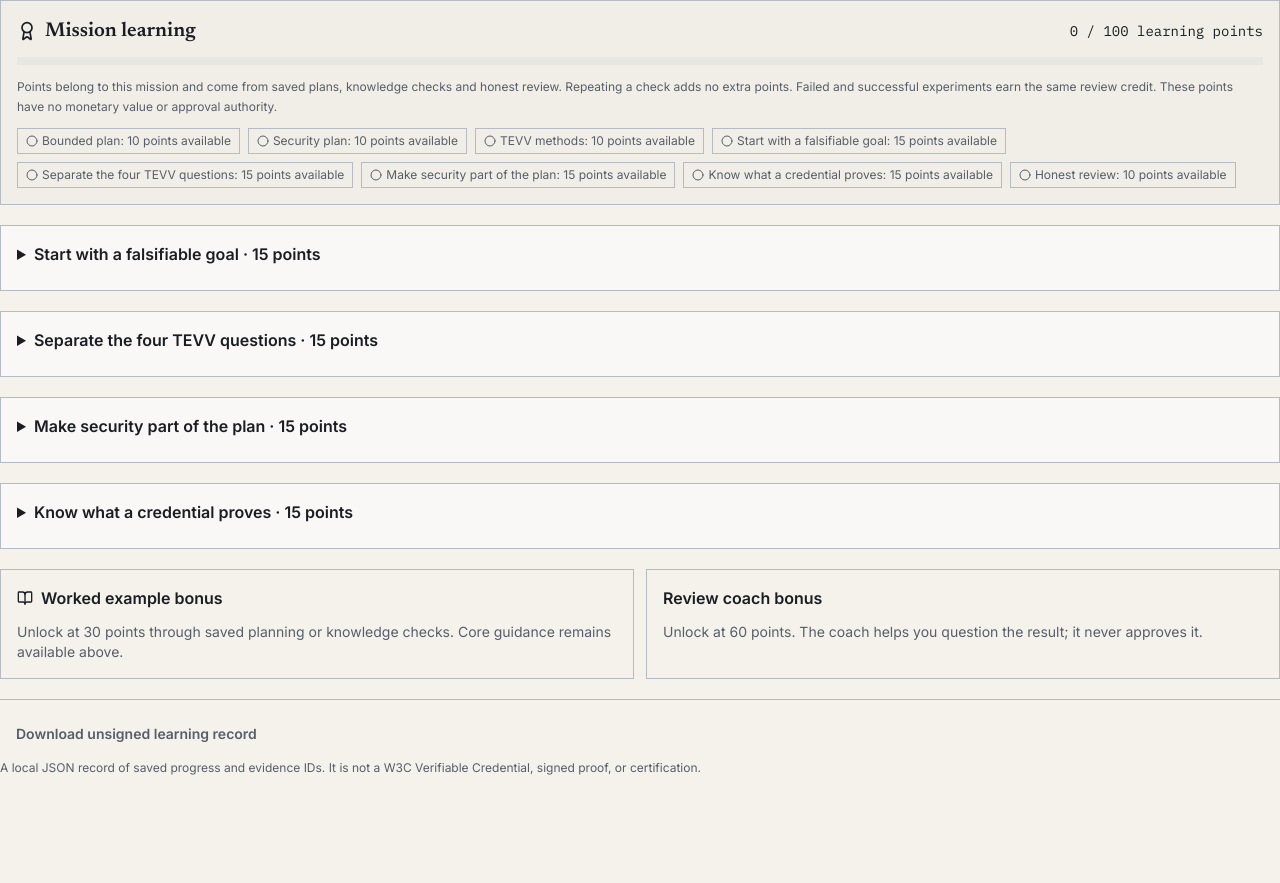
Test: educational rewards › awards no credit for a rejected answer save, then persists one correct answer only once
Click the heading "Start with a falsifiable goal · 15 points" at [177, 254], box top-left (34, 244), bottom-right (321, 264)
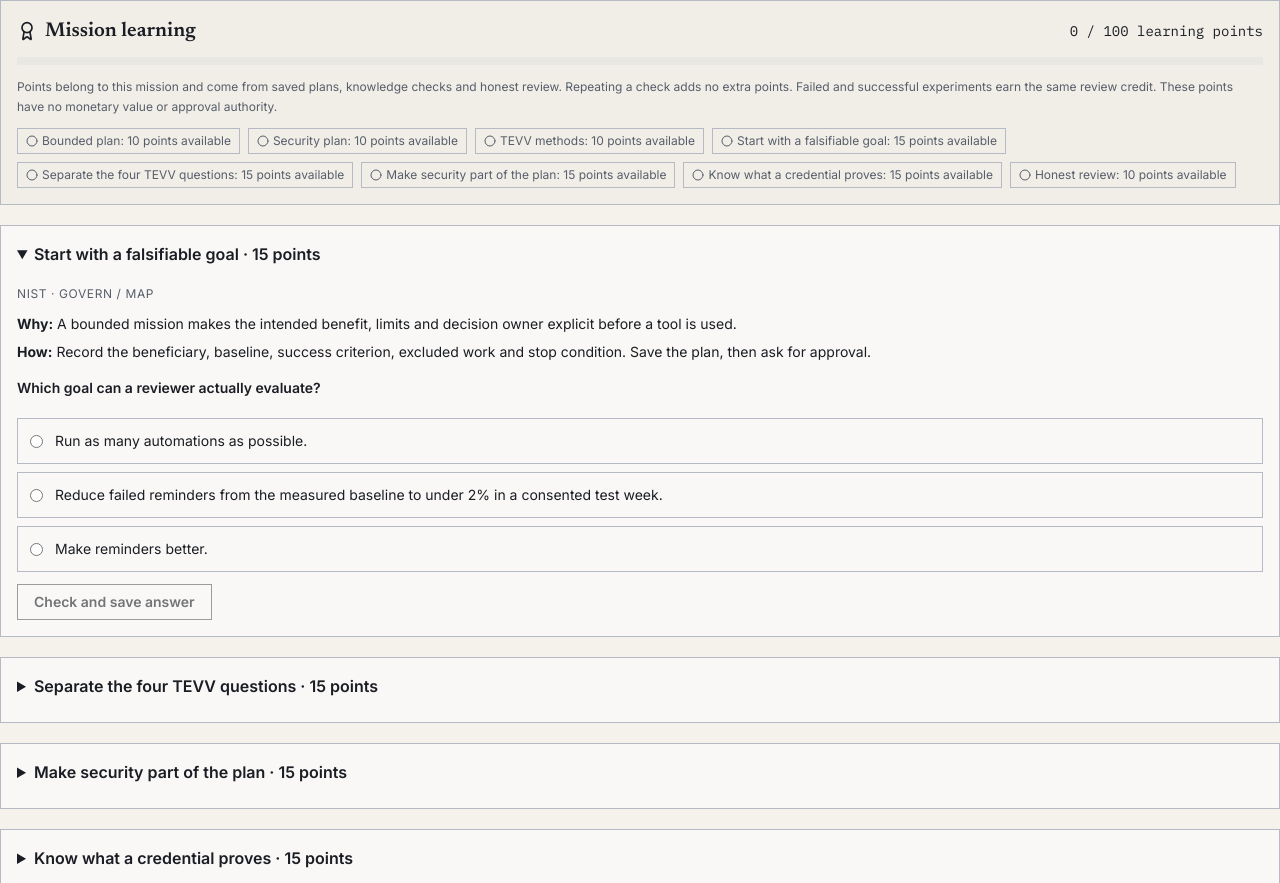
Click the radio button named "Reduce failed reminders from the measured baseline to under 2% in a consented test week." at [36, 496], box top-left (30, 489), bottom-right (43, 502)
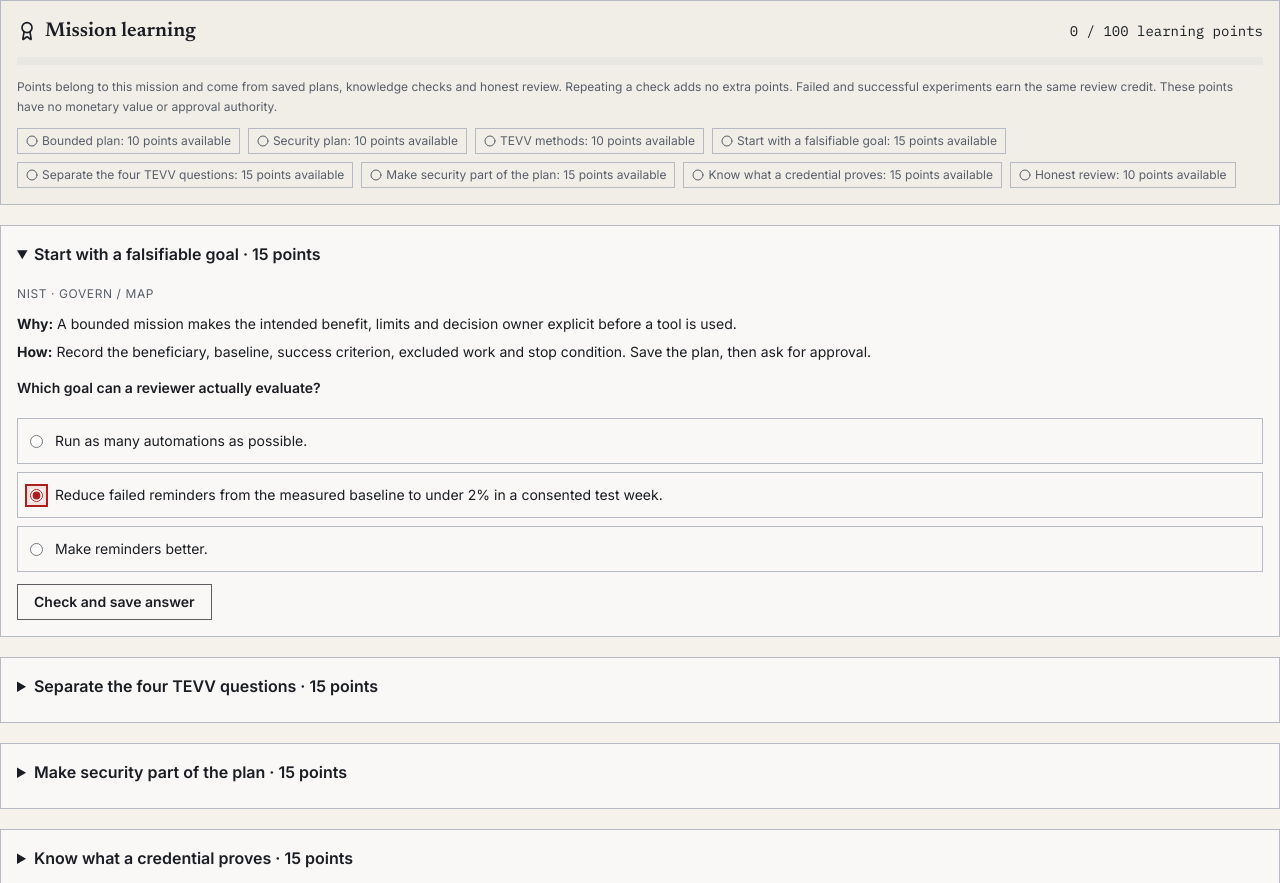
Click the button "Check and save answer" at [114, 602], box top-left (17, 584), bottom-right (212, 620)
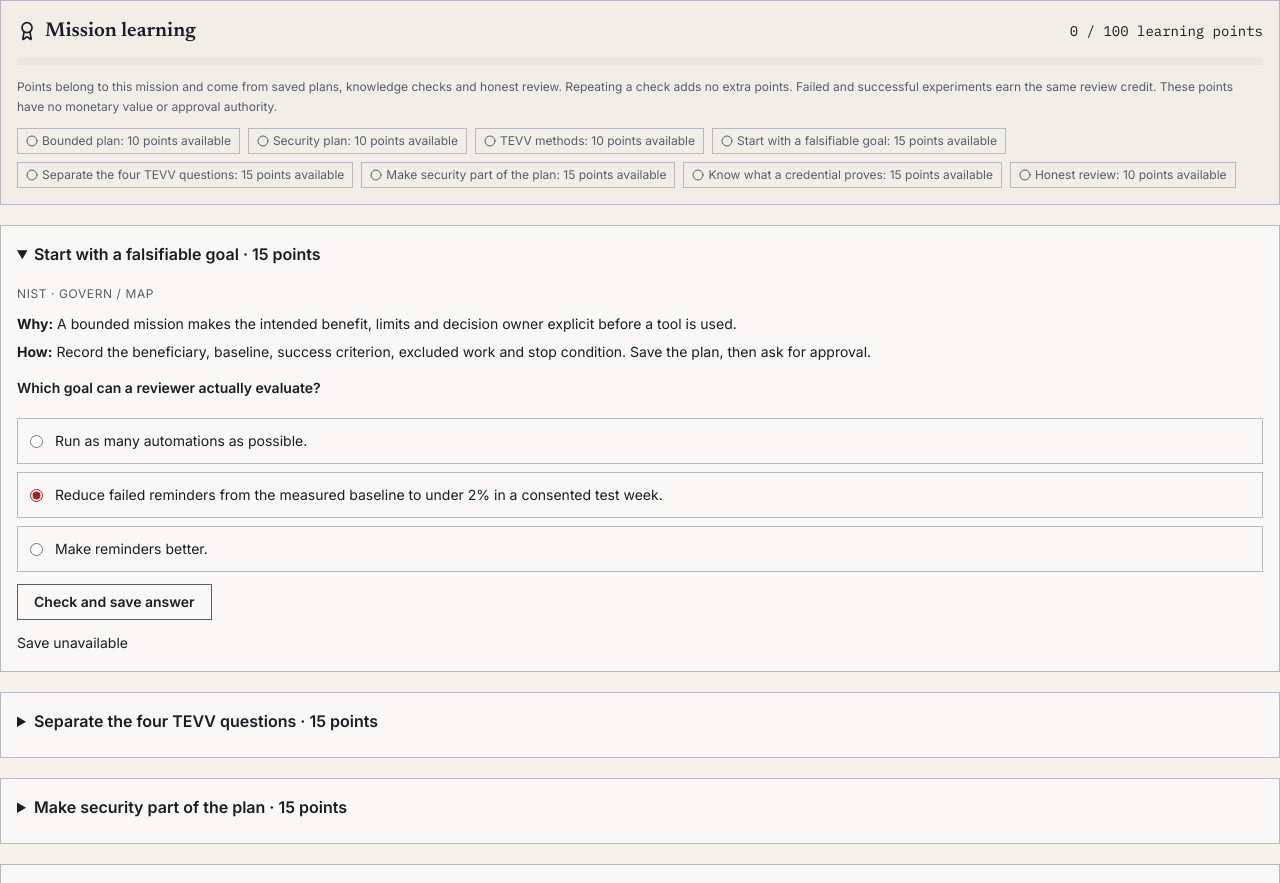
Expected: the text "Save unavailable" is shown, top-left (17, 634), bottom-right (128, 651)
Click the button "Check and save answer" at [114, 602], box top-left (17, 584), bottom-right (212, 620)
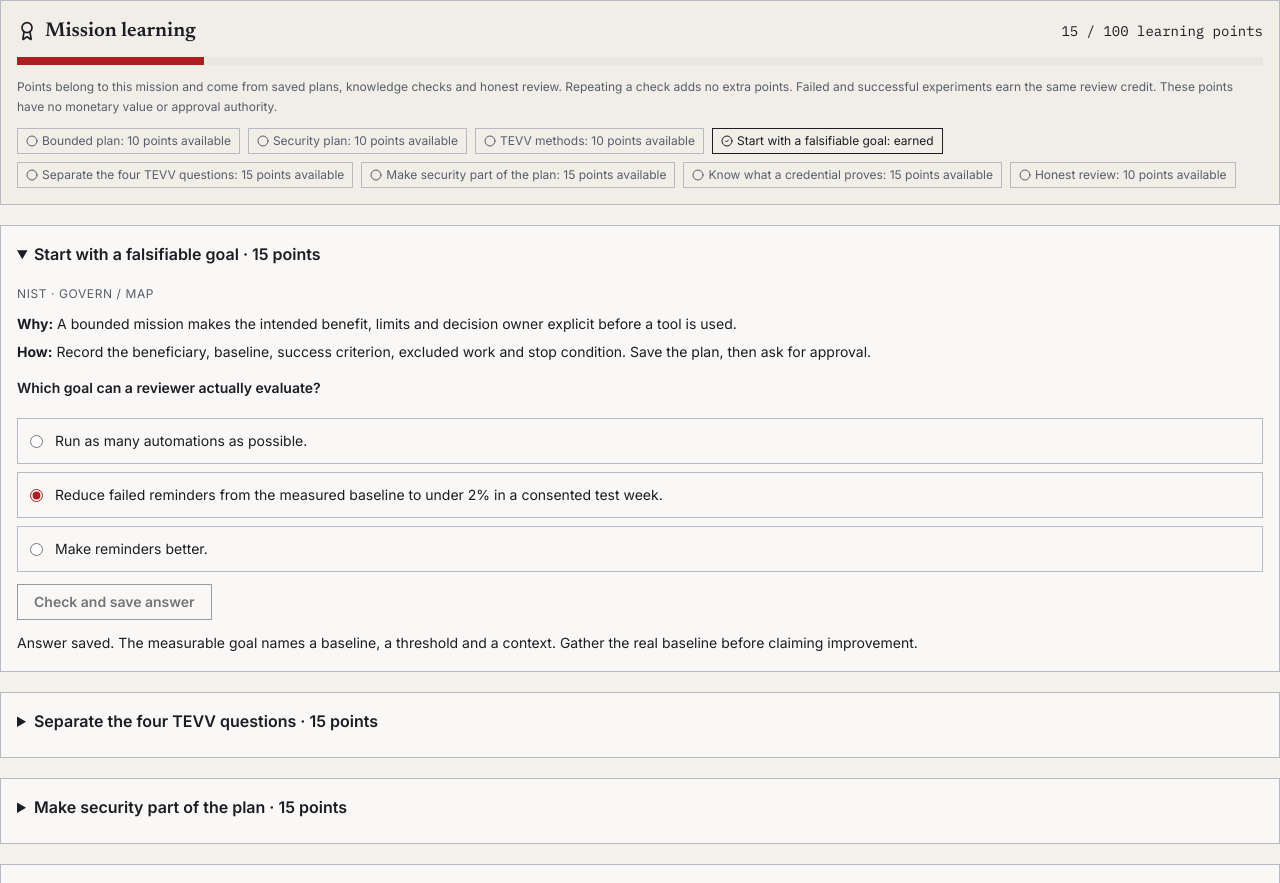
Expected: the button "Check and save answer" is disabled, top-left (17, 584), bottom-right (212, 620)
